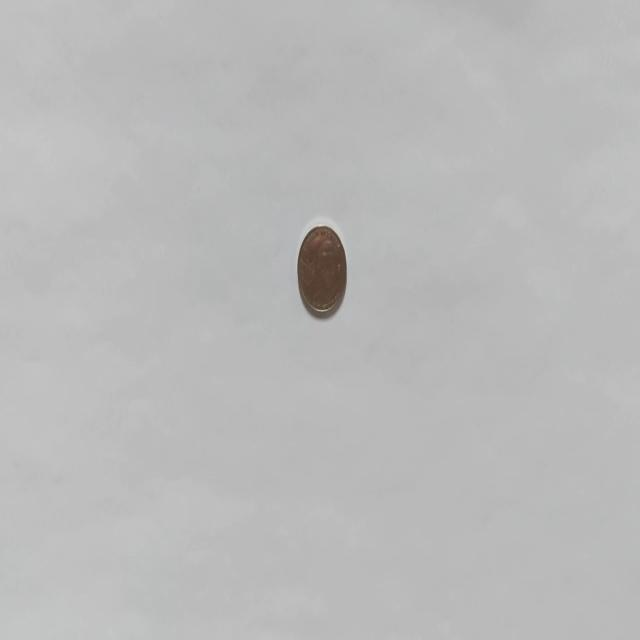seribu rupiah koin: (296, 220, 348, 320)
